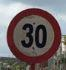Gioi han toc do: (6, 6, 62, 66)
